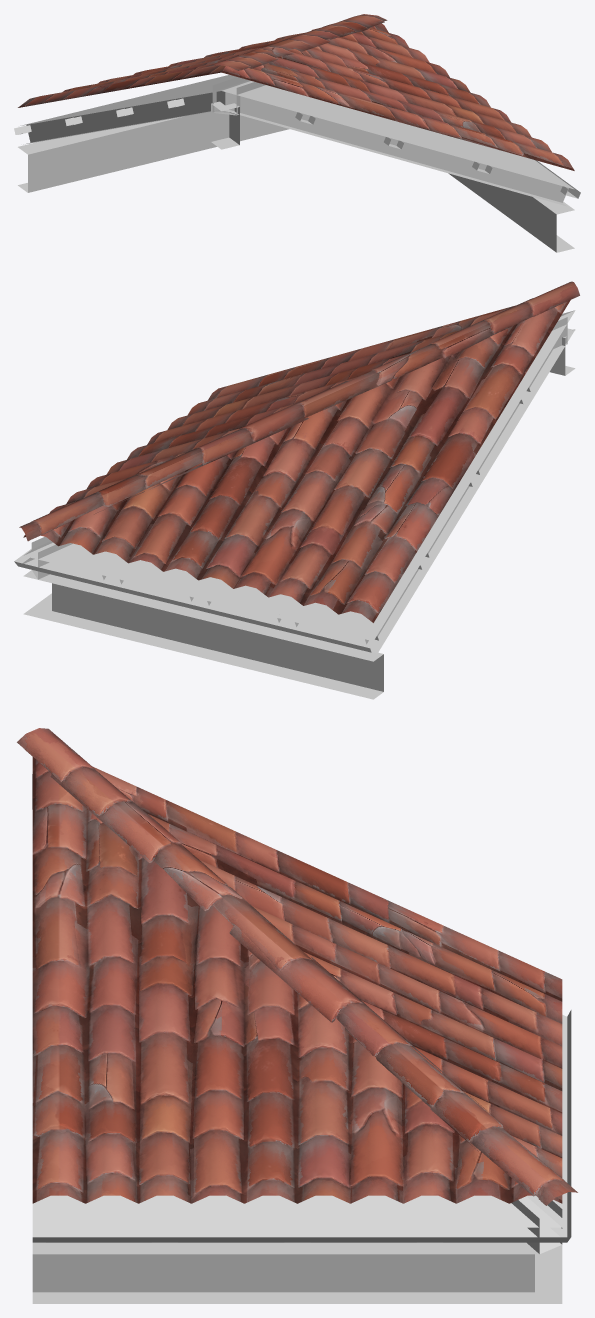
The model's file is WallKit_Hip_LOD0.fbx.
3 renders of one model, top to bottom at view 1: azimuth 30°, elevation 25°; view 2: azimuth 150°, elevation 25°; view 3: azimuth 270°, elevation 25°, orthographic. The views are drawn at different scales.
Visible parts, largest first — view 1: WallKit_Hip_LOD0; view 2: WallKit_Hip_LOD0; view 3: WallKit_Hip_LOD0.
Boxes of the visible parts, box(x1,y1,x2,y2) form: WallKit_Hip_LOD0: box(14, 14, 580, 252); WallKit_Hip_LOD0: box(14, 281, 579, 699); WallKit_Hip_LOD0: box(17, 728, 577, 1303).
Size of the model in its own units: 428 by 291 by 428.
